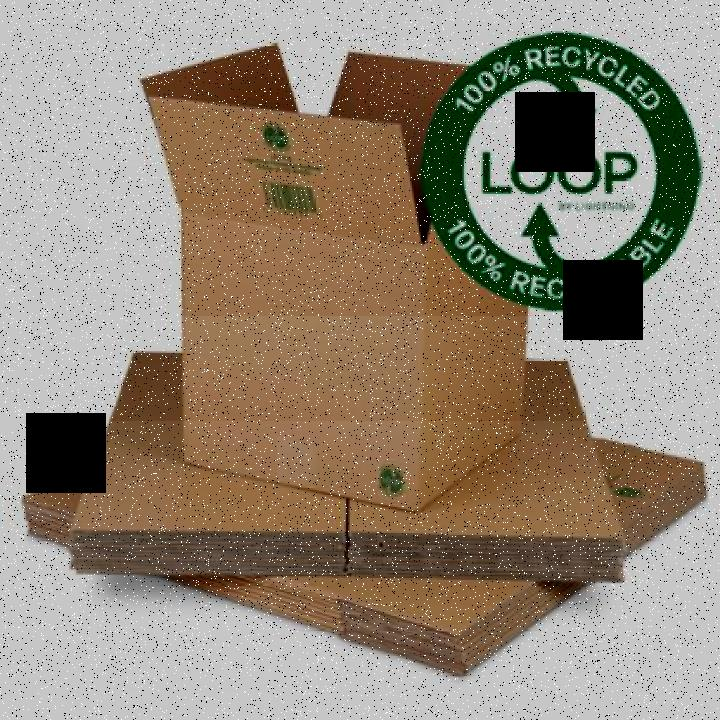box: (130, 45, 547, 516), (23, 421, 714, 681), (69, 316, 632, 594)
